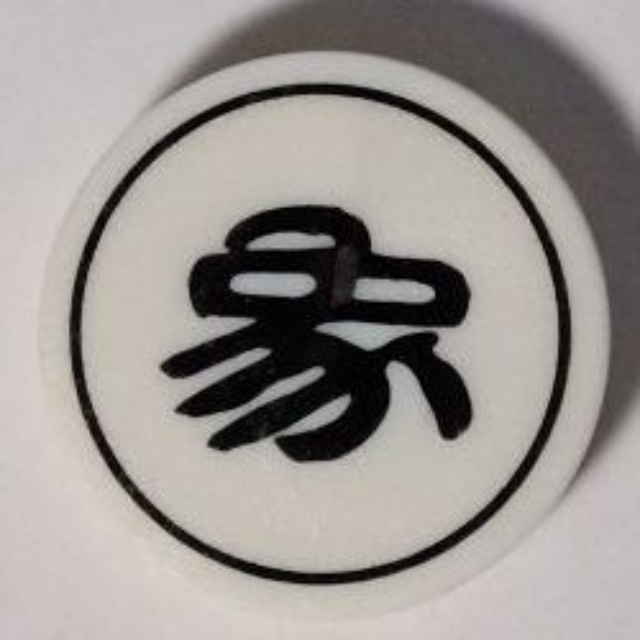black_bo: (21, 47, 622, 614)
